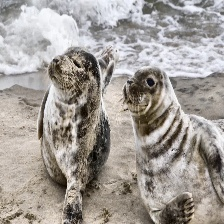seal: (122, 66, 224, 224), (37, 46, 115, 223), (37, 48, 114, 224)
